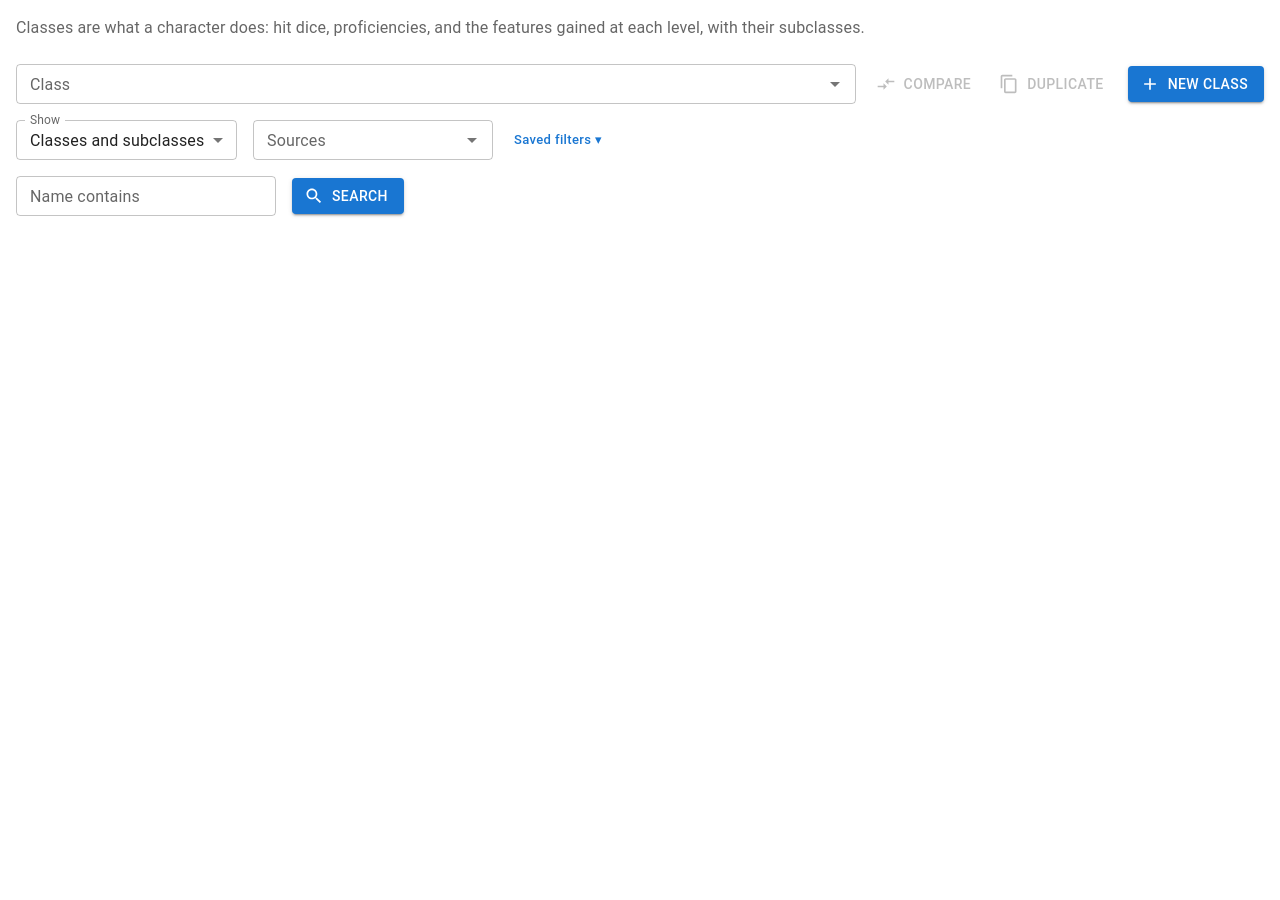
reading a class › lists its subclasses, and opens one when it is chosen
The image size is (1280, 900).
Step 1. Type "Wizard" into the dropdown labelled "Class" → (419, 84), box left=22, top=70, right=817, bottom=98
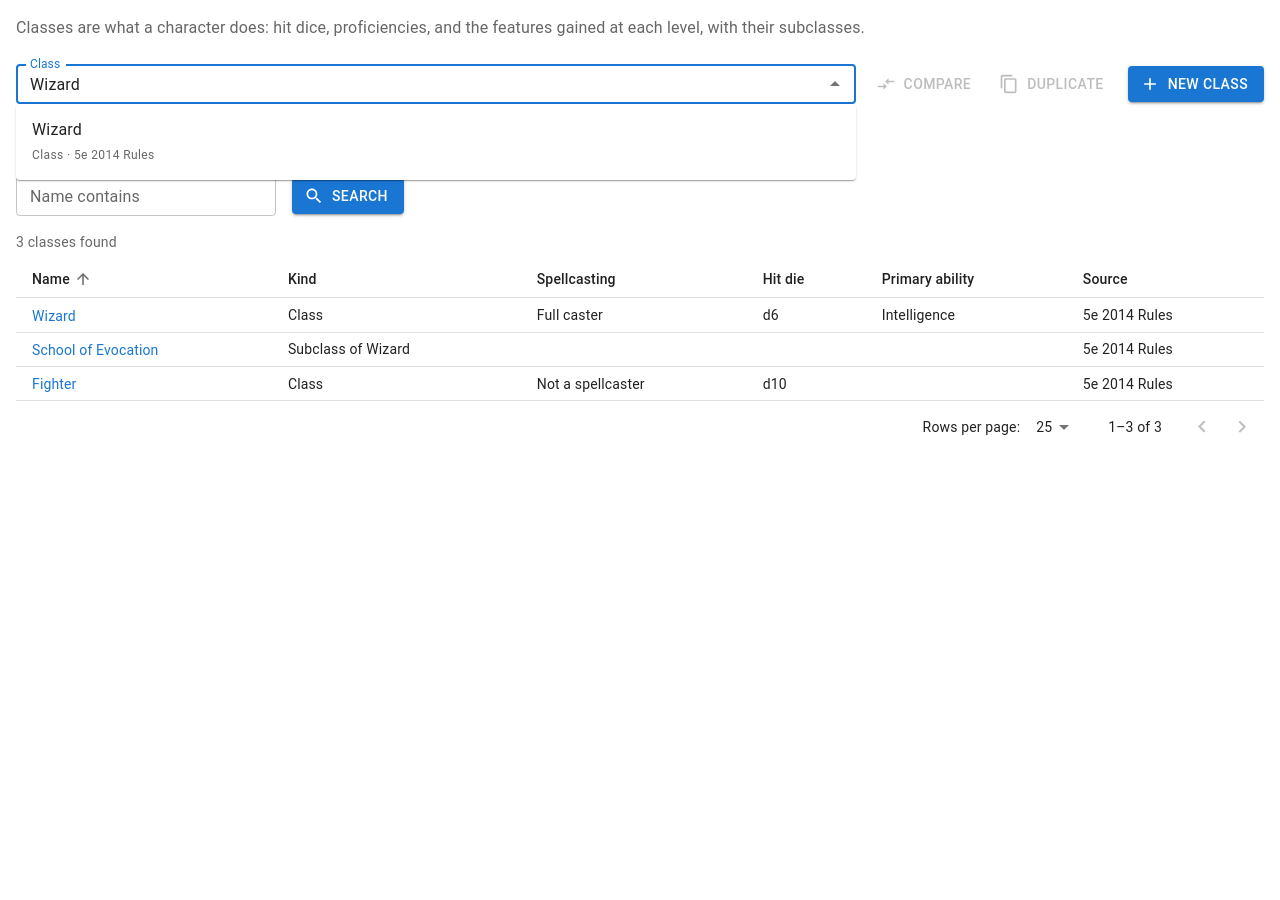
Check: the option "Wizard Class · 5e 2014 Rules" is shown
Step 2. Click the option "Wizard Class · 5e 2014 Rules" → (57, 130), box left=32, top=120, right=155, bottom=162
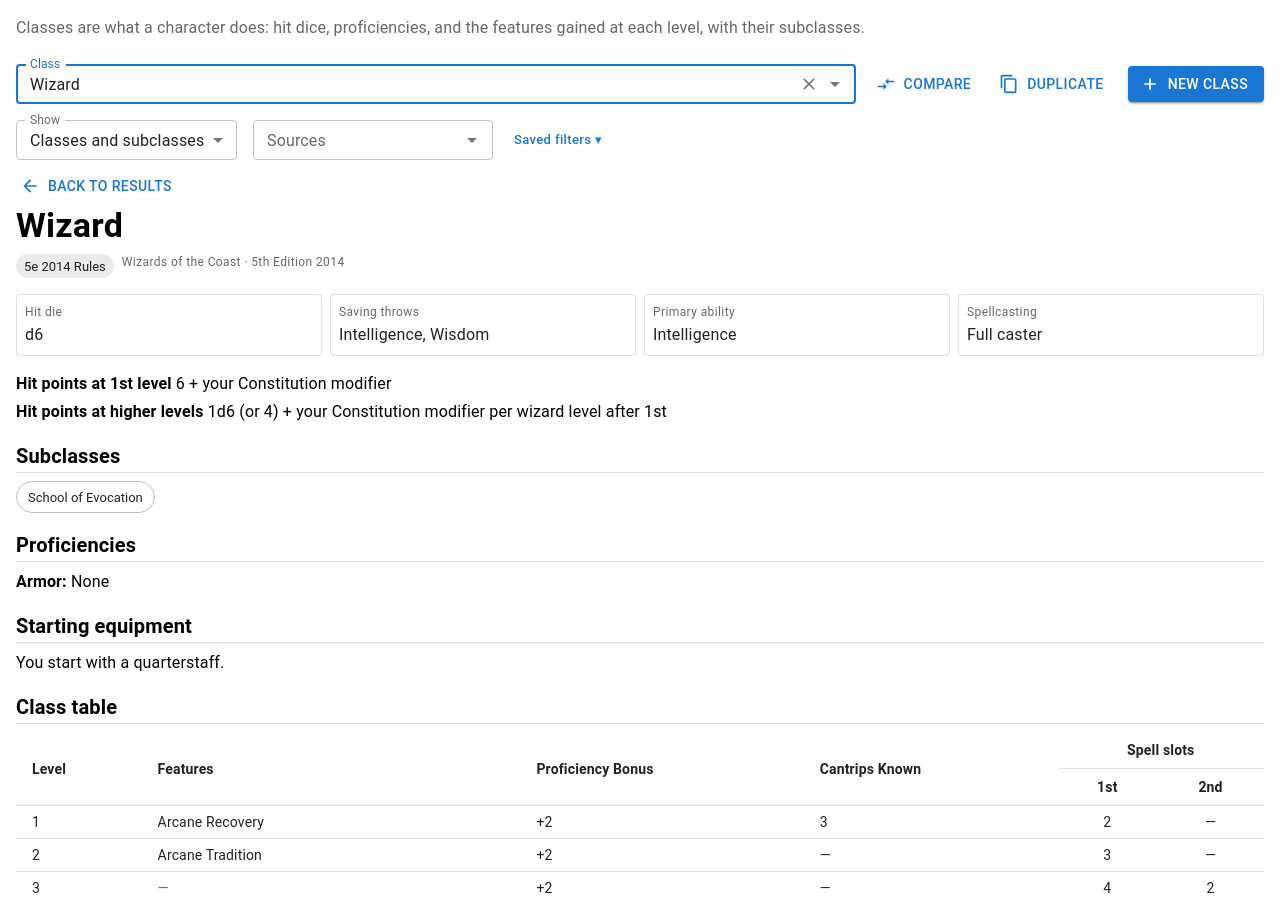
Step 3. Click the button with aria-label "Open School of Evocation" → (85, 497), box left=16, top=481, right=155, bottom=513
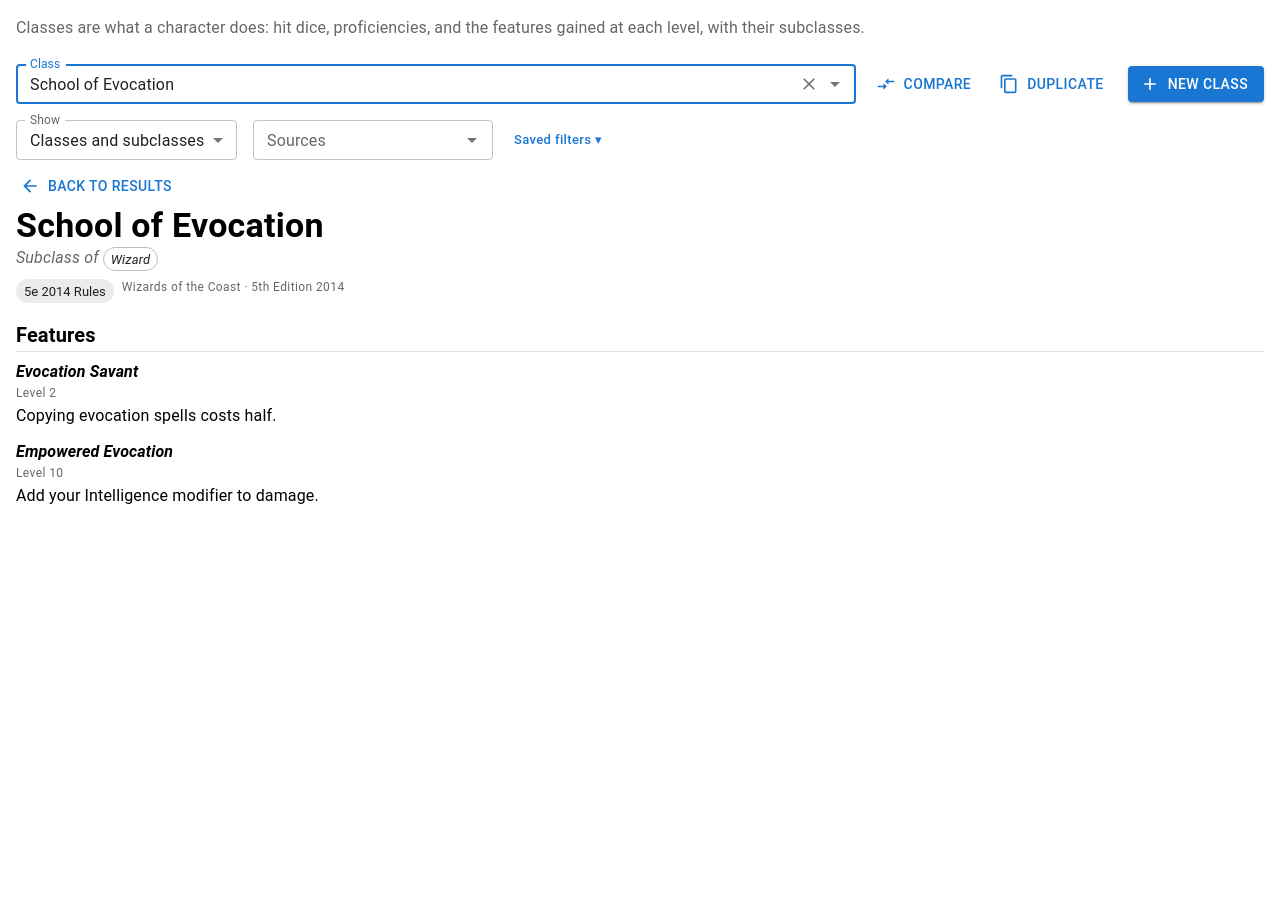
Check: the heading "School of Evocation" is shown, box left=16, top=204, right=324, bottom=244
Check: the text "Copying evocation spells costs half." is shown, box left=16, top=406, right=276, bottom=425
Check: the text "Level 10" is shown, box left=16, top=466, right=63, bottom=480
